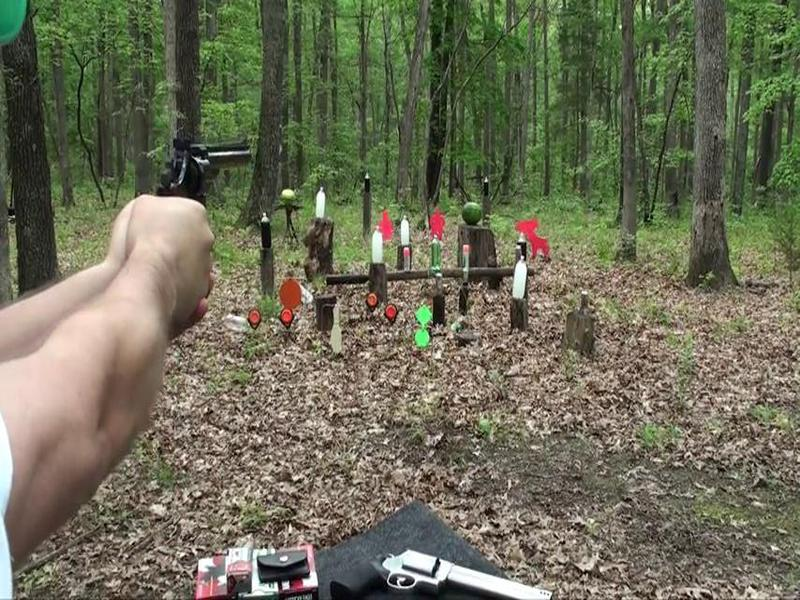Revolver: (147, 128, 262, 218)
